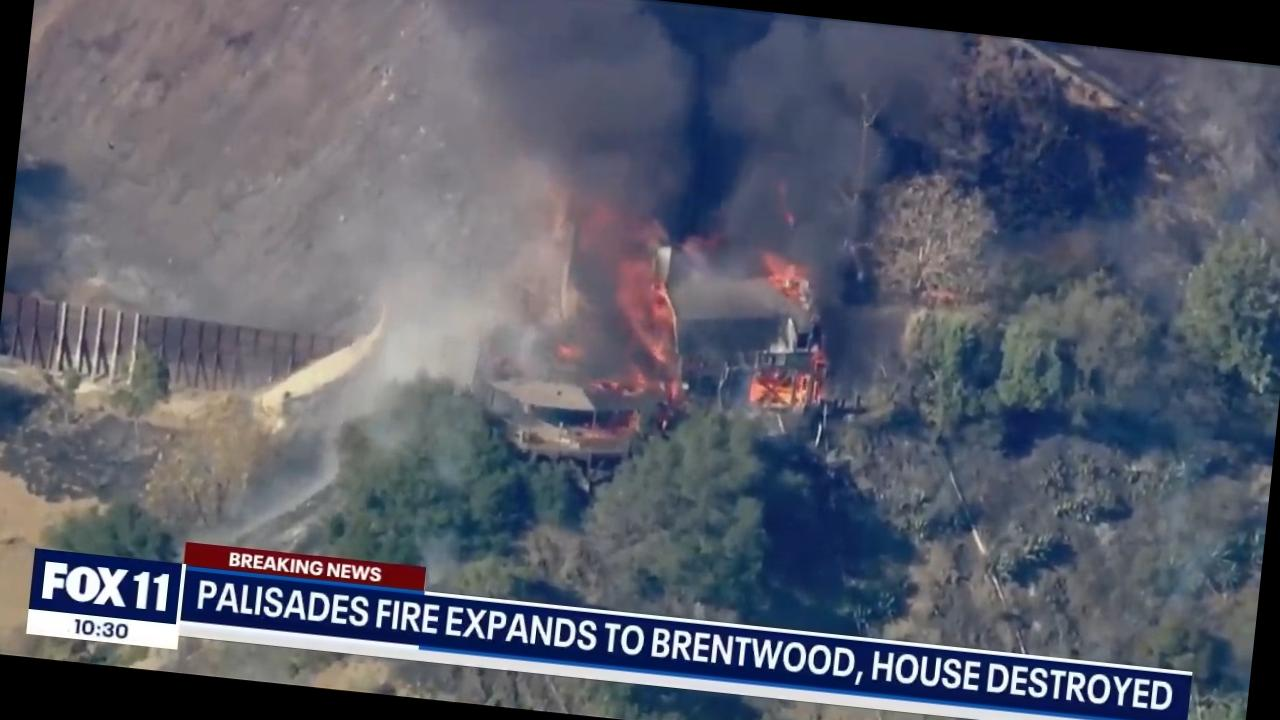Smoke: (471, 0, 914, 311)
